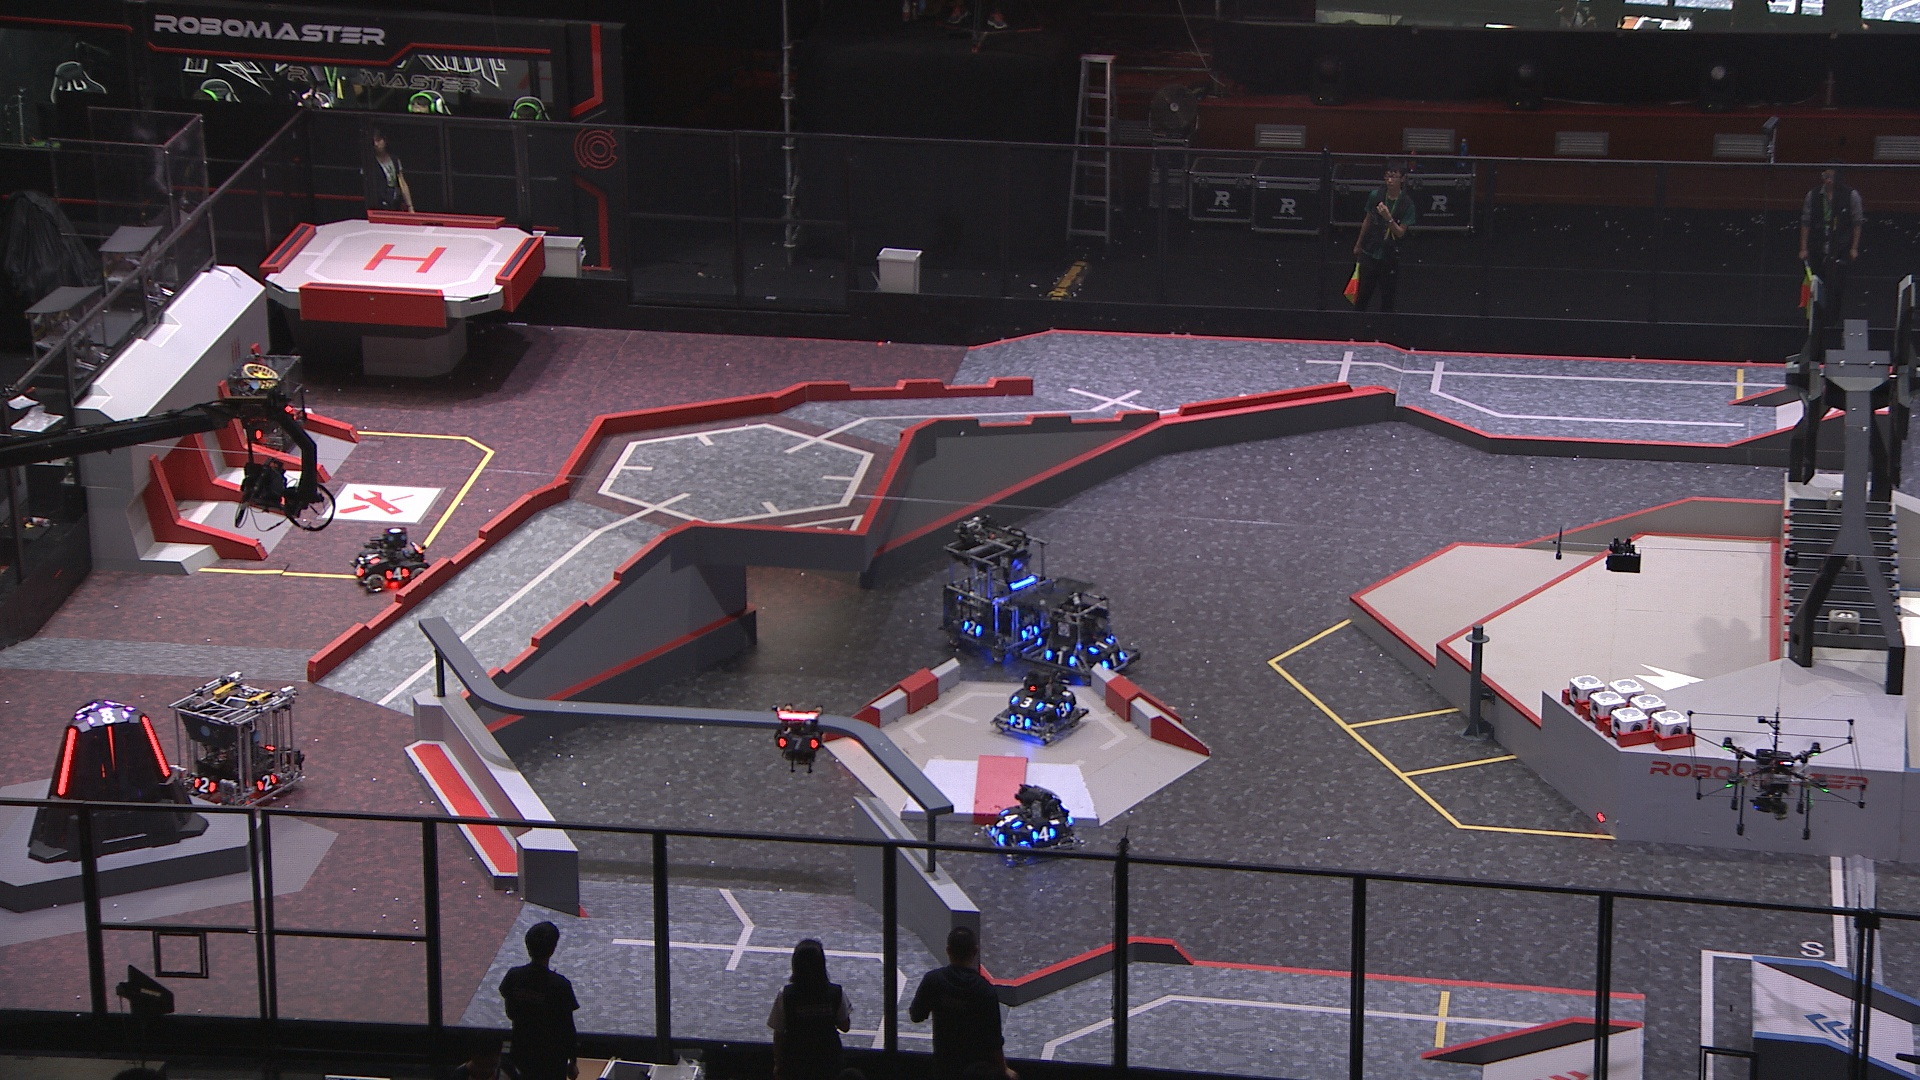armor: (140, 716, 171, 778), (54, 727, 76, 798), (775, 735, 822, 752), (103, 721, 119, 770), (1007, 694, 1044, 713), (1043, 647, 1073, 669), (191, 775, 218, 796), (253, 771, 278, 793), (381, 567, 411, 584), (1031, 825, 1058, 844), (1087, 636, 1116, 651), (1007, 713, 1034, 731), (1102, 651, 1124, 670), (998, 808, 1021, 825), (1051, 702, 1073, 719), (988, 828, 1007, 847), (240, 425, 262, 440), (961, 618, 978, 638), (1021, 626, 1040, 642), (361, 551, 381, 566), (352, 560, 367, 580)
base: (24, 698, 208, 866)
car: (171, 673, 306, 811), (938, 510, 1048, 666), (1007, 574, 1139, 692), (222, 344, 316, 462), (984, 782, 1079, 862), (992, 674, 1088, 745), (347, 524, 433, 595)
ignore: (88, 705, 131, 731), (73, 700, 100, 719)
watcher: (770, 704, 827, 766)
